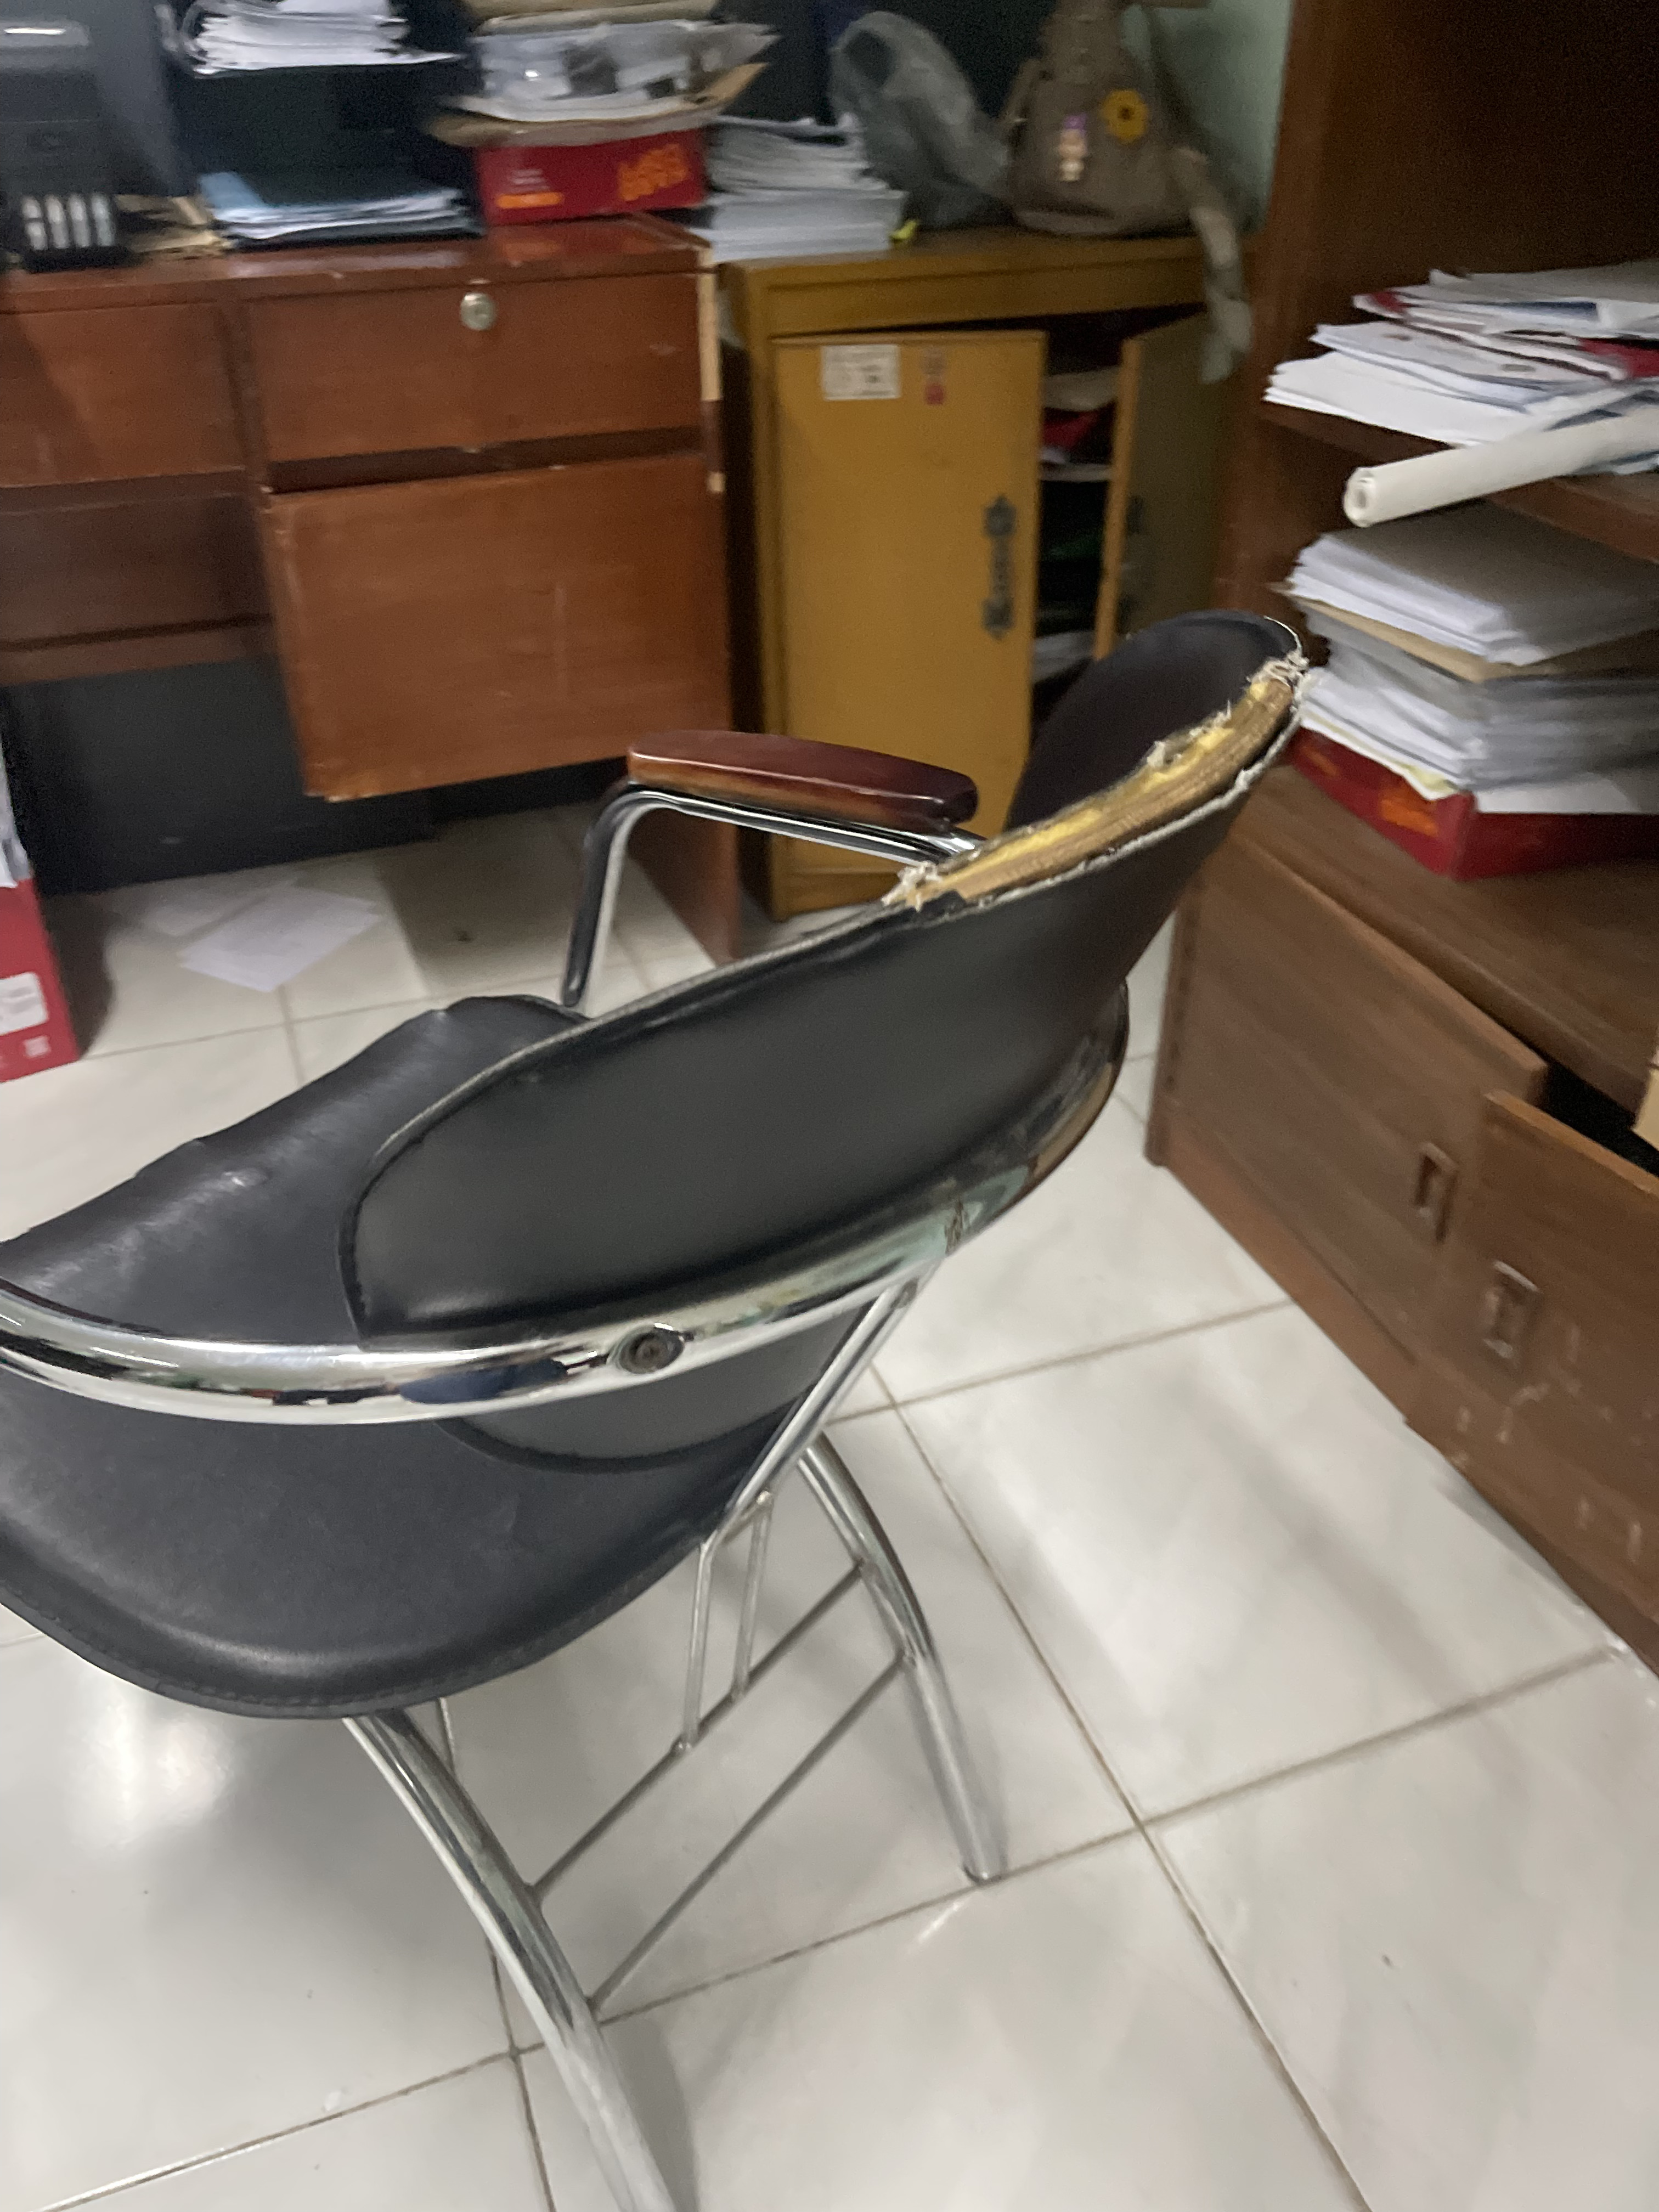chair1: (3, 610, 1317, 2212)
